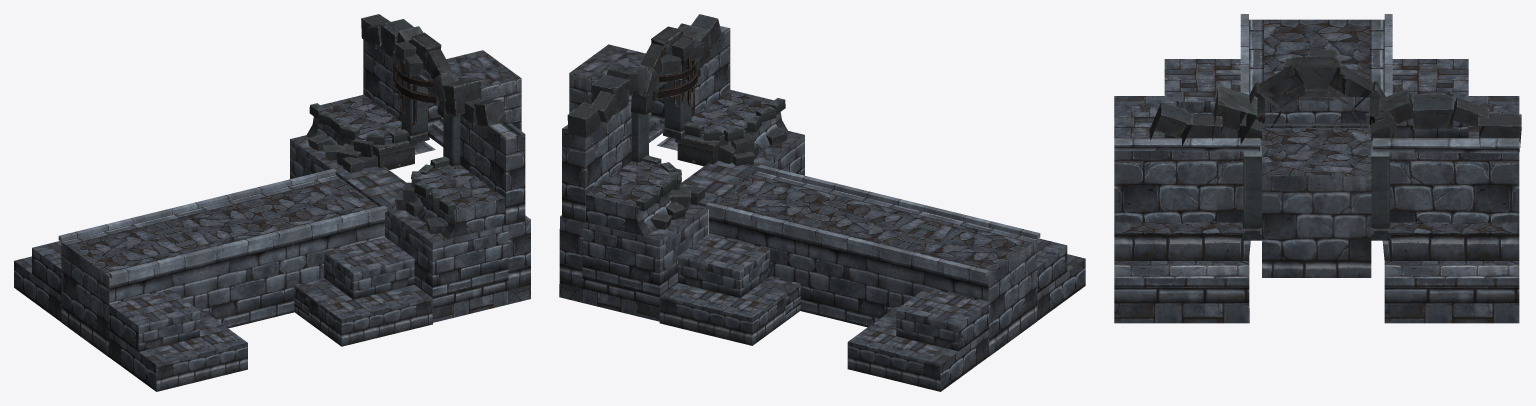
Rendered from B_zhongdianqiao.fbx.
The picture shows the model from 3 angles, left to right: view 1: azimuth 30°, elevation 25°; view 2: azimuth 150°, elevation 25°; view 3: azimuth 270°, elevation 25°; orthographic projection. The views are drawn at different scales.
Visible parts, largest first — view 1: B_zhongdianqiao; view 2: B_zhongdianqiao; view 3: B_zhongdianqiao.
Boxes of the visible parts, box(x1,y1,x2,y2) form: B_zhongdianqiao: box(14, 14, 530, 391); B_zhongdianqiao: box(559, 14, 1085, 391); B_zhongdianqiao: box(1114, 14, 1521, 323).
Bounding box in the file's own units: 1514 × 753 × 901.
